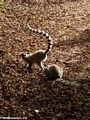cat: (16, 22, 51, 69)
